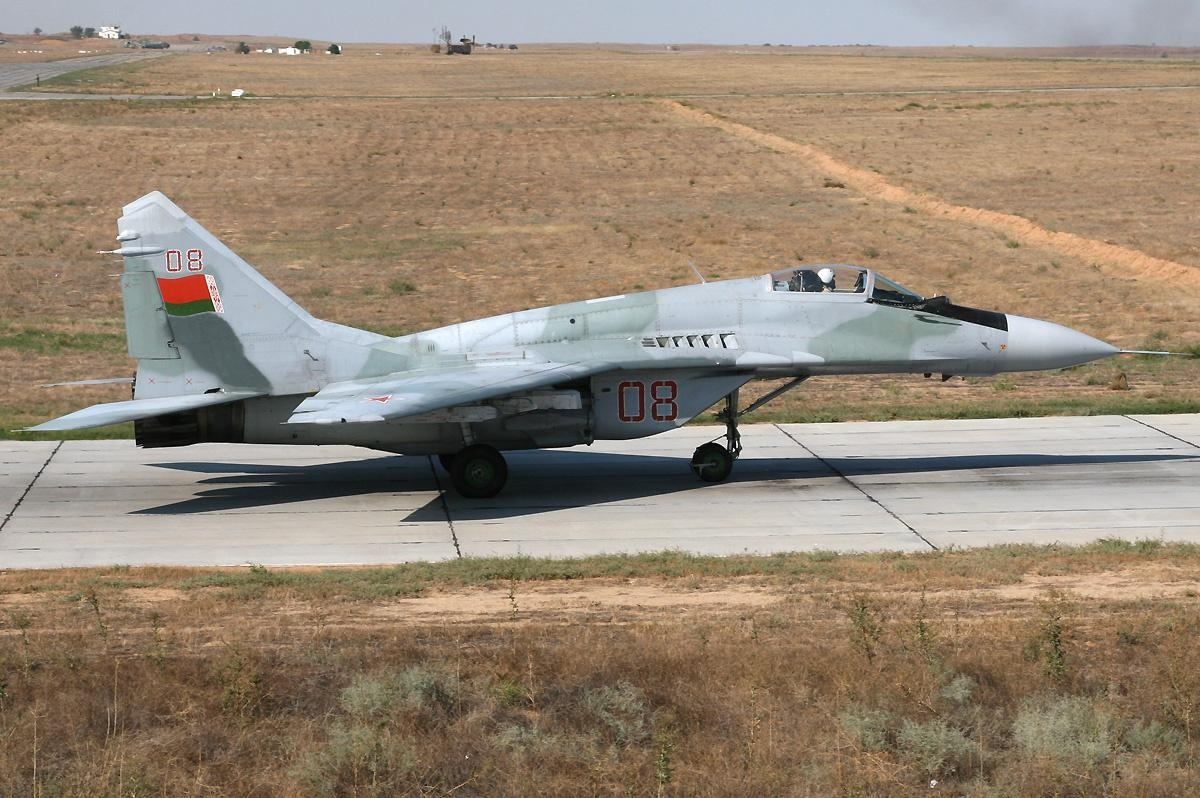aircraft: (21, 189, 1120, 501)
